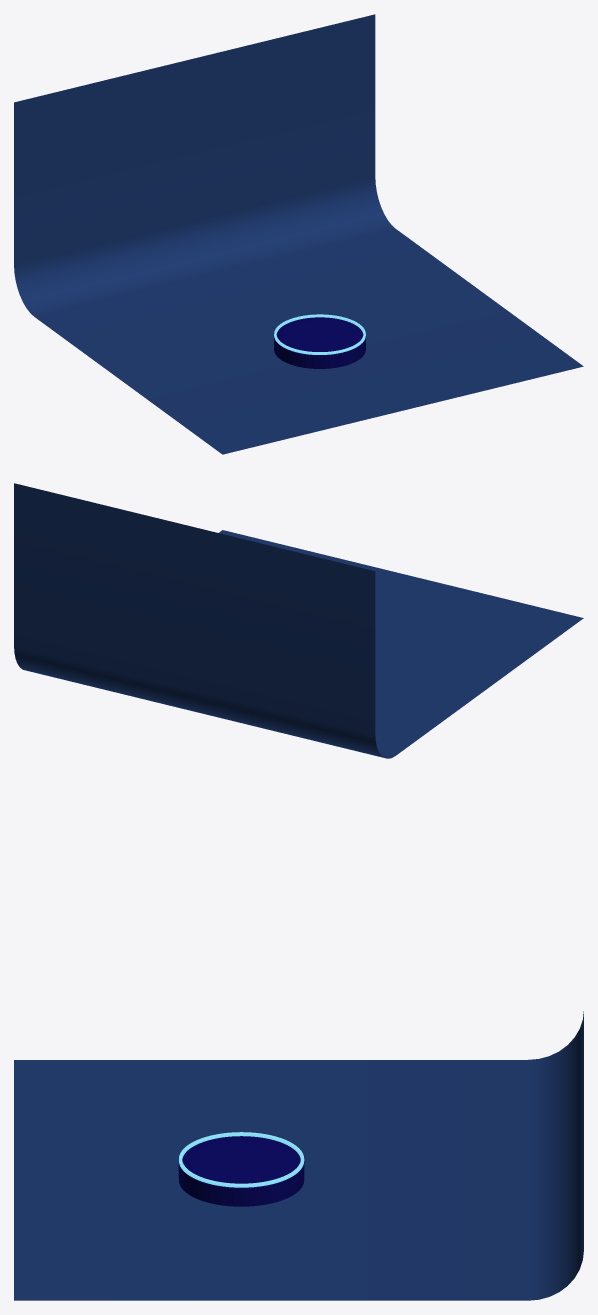
3 views of the same model, one above another, from view 1: azimuth 30°, elevation 25°; view 2: azimuth 150°, elevation 25°; view 3: azimuth 270°, elevation 25° (orthographic). The views are drawn at different scales.
Parts seen in each view (by area): view 1: Plane.014, Circle.001, Circle.041; view 2: Plane.014; view 3: Plane.014, Circle.001, Circle.041.
Boxes of the visible parts, x1=… form: Plane.014: x1=14, y1=14, x2=583, y2=454; Circle.001: x1=274, y1=317, x2=365, y2=368; Circle.041: x1=274, y1=314, x2=365, y2=354; Plane.014: x1=14, y1=483, x2=583, y2=758; Plane.014: x1=14, y1=1011, x2=583, y2=1300; Circle.001: x1=178, y1=1136, x2=304, y2=1206; Circle.041: x1=179, y1=1132, x2=304, y2=1187.
Size of the model in its own units: 36.07 by 19.46 by 36.07.
